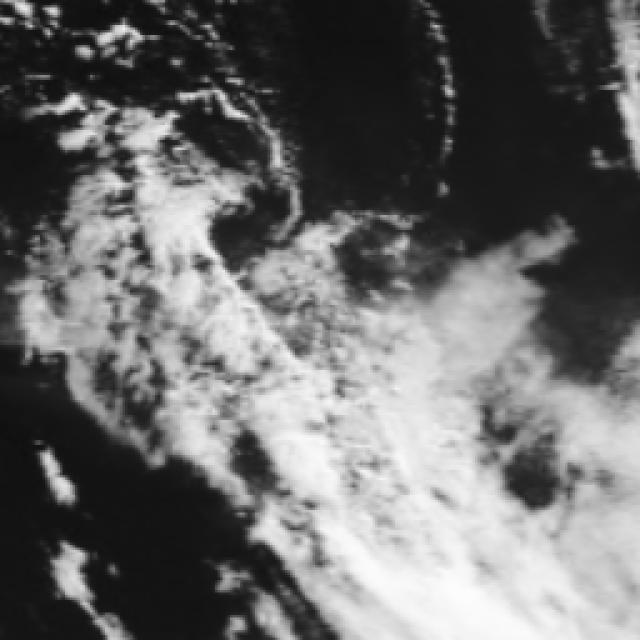CB: (397, 522, 640, 639)
